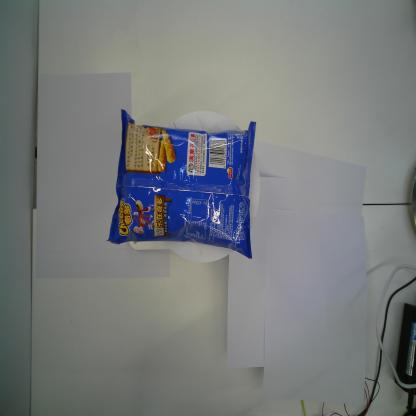Puffed Food: (106, 106, 257, 261)
